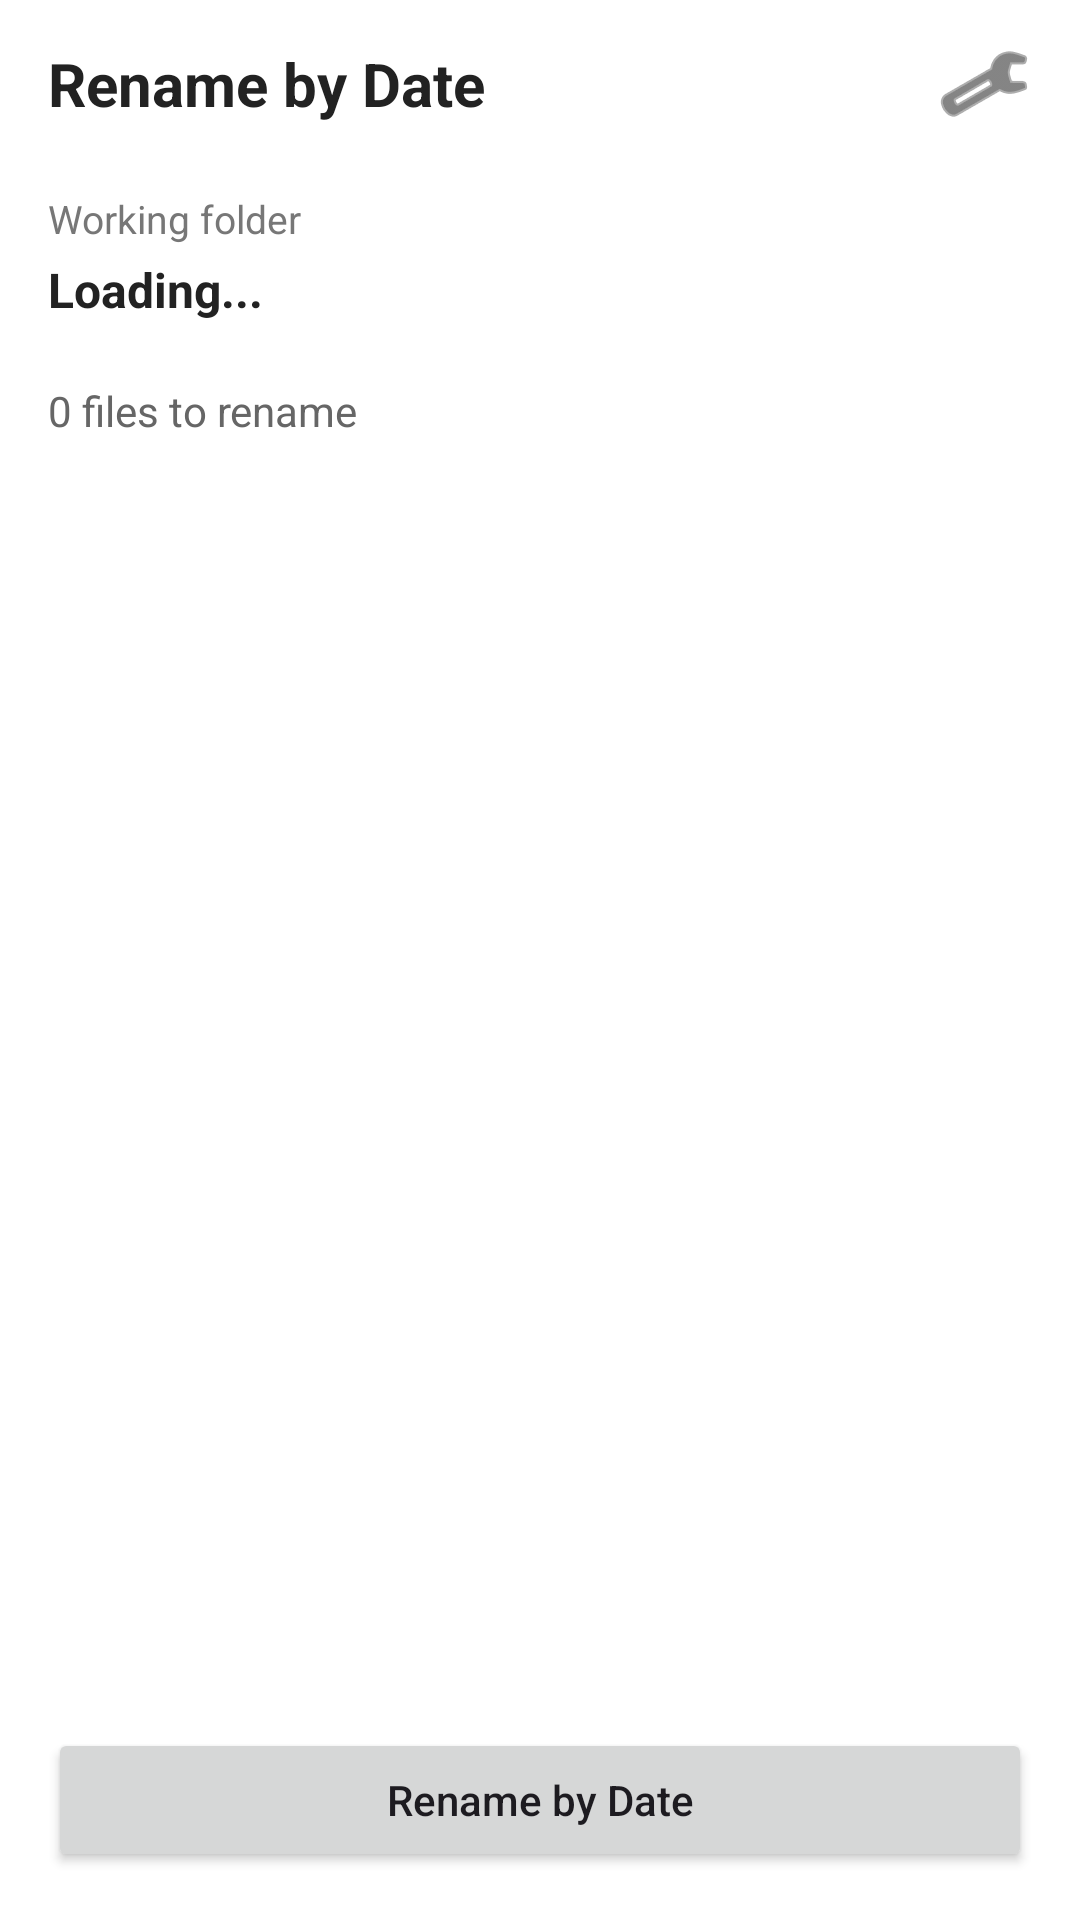

Icons on this 1080×1920 Android screen, each with its box as (x1, y1, x2, y2):
Settings: (941, 51, 1027, 117)
